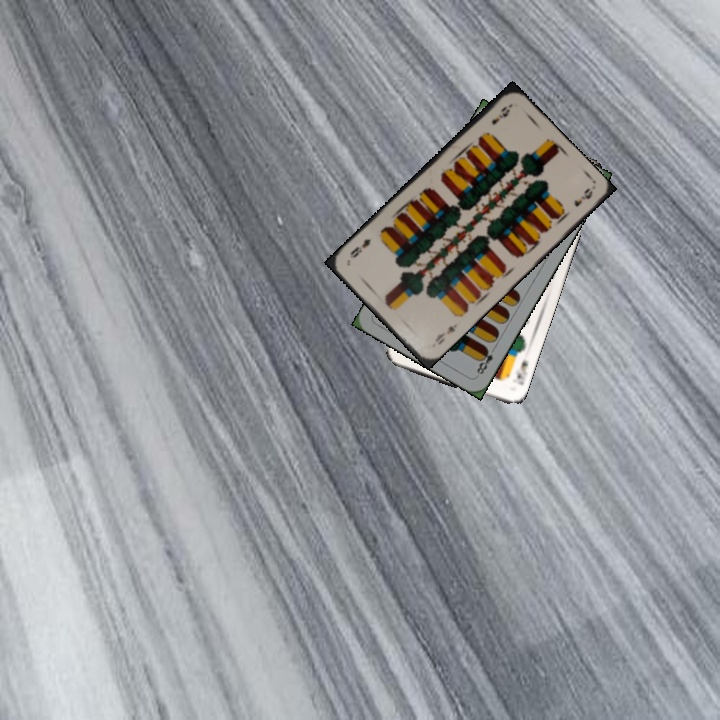E8: (473, 342, 499, 377)
E9: (431, 320, 460, 348), (487, 101, 513, 127)
EK: (508, 355, 530, 388)
